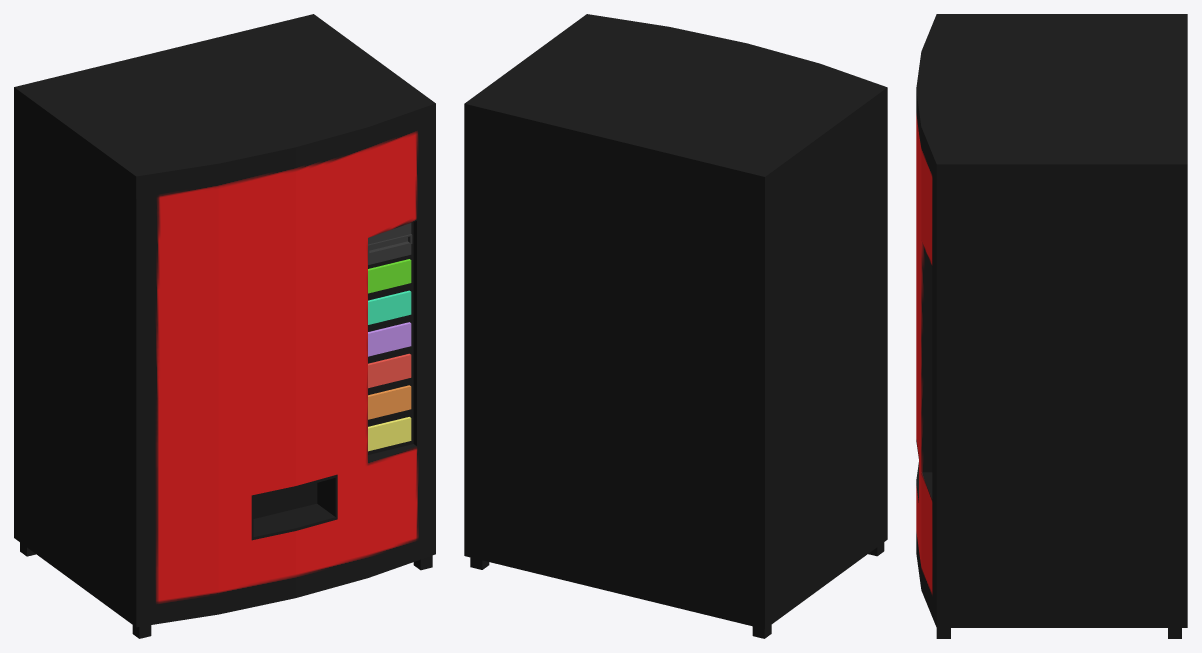
File: model-scenario-static-level0-micelanious-bermachine.fbx
3 renders of one model, left to right at view 1: azimuth 30°, elevation 25°; view 2: azimuth 150°, elevation 25°; view 3: azimuth 270°, elevation 25°, orthographic. The views are drawn at different scales.
Parts seen in each view (by area): view 1: mesh; view 2: mesh; view 3: mesh.
Boxes of the visible parts, bbox=[...] form: mesh: bbox=[14, 14, 435, 638]; mesh: bbox=[464, 14, 887, 638]; mesh: bbox=[916, 14, 1187, 638].
Bounding box in the file's own units: 1.06 × 1.39 × 2.05.
2 materials, 2 textured.
